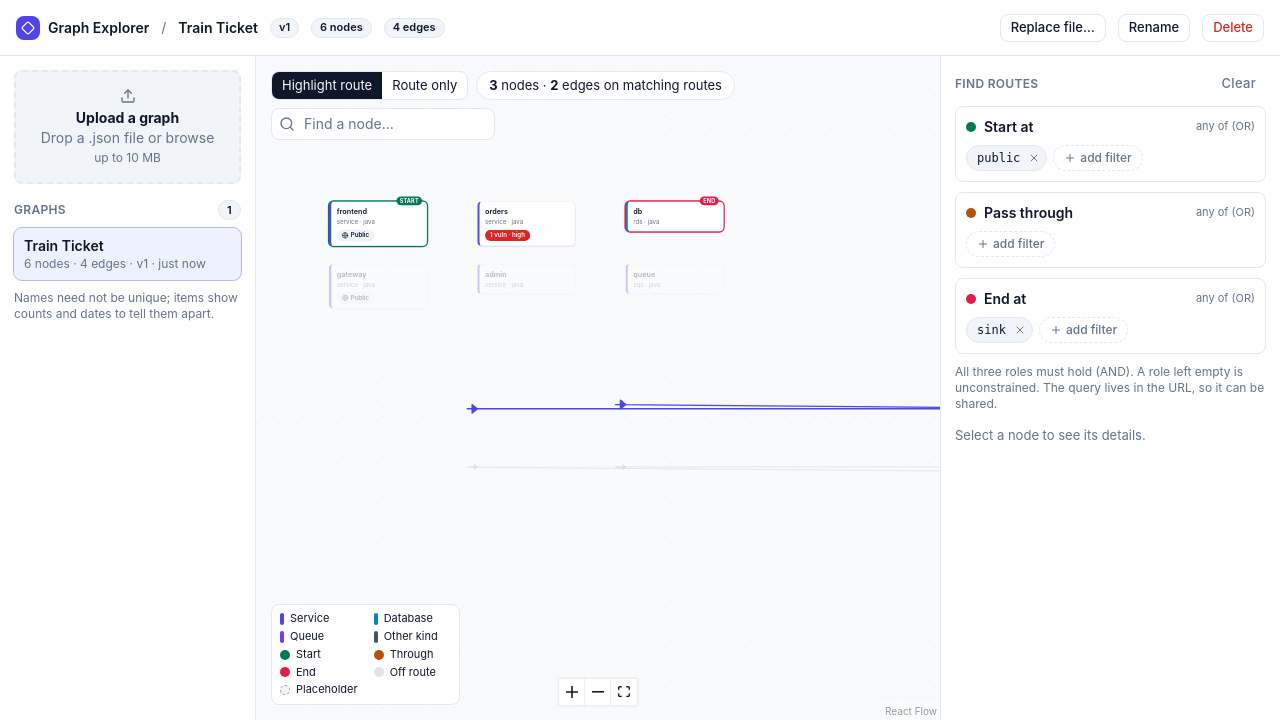
Test: route query › queries again when a chip is removed, and Clear returns to the plain graph
The width and height of the screenshot is (1280, 720).
expect the text "3 nodes · 2 edges on matching routes" is shown: met, box [476,71,735,100]
Click the button named "Remove sink from End at": (1020, 330) [1012,322,1028,338]
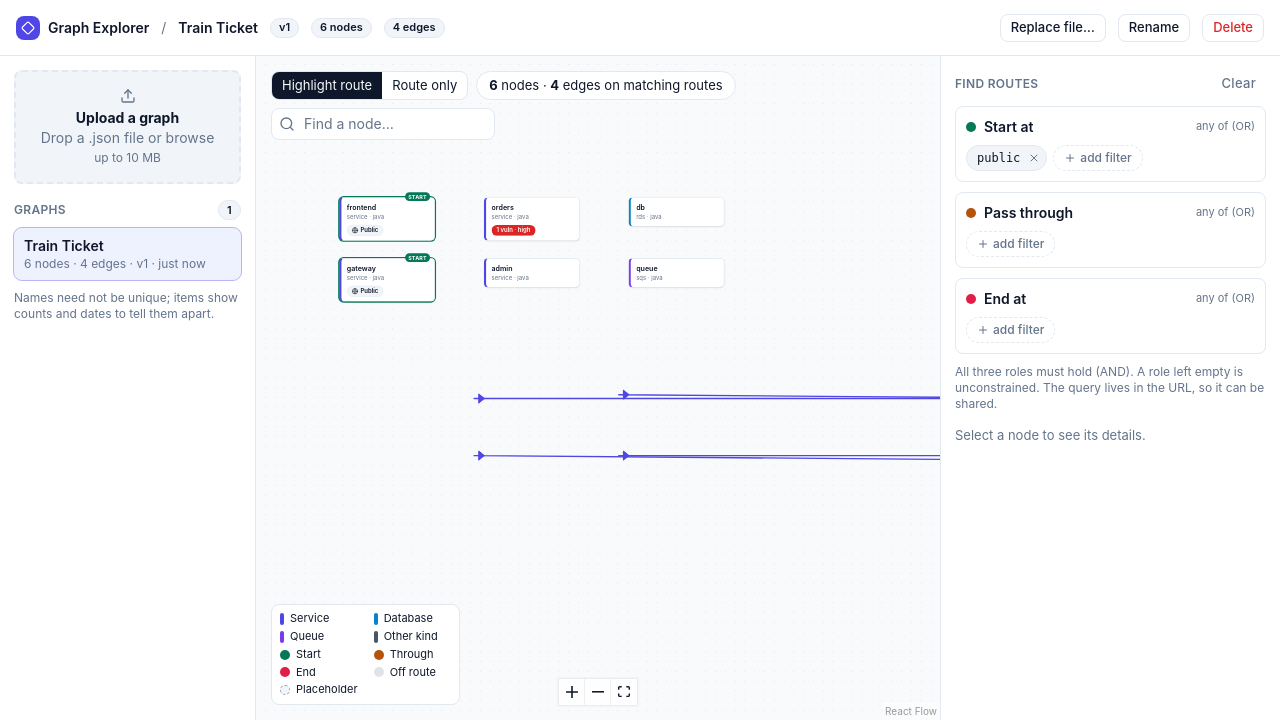
Click the button "Clear": (1239, 84) [1212,70,1266,98]
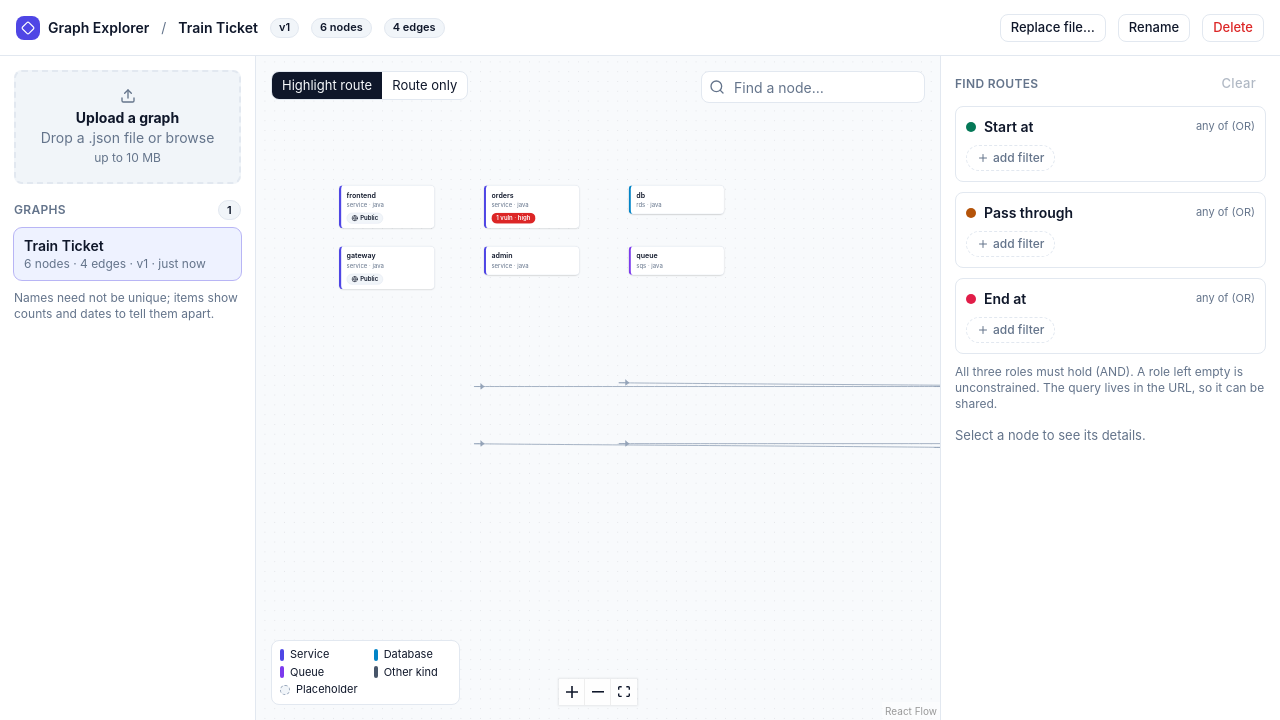
expect the text "on matching routes" is gone: met
